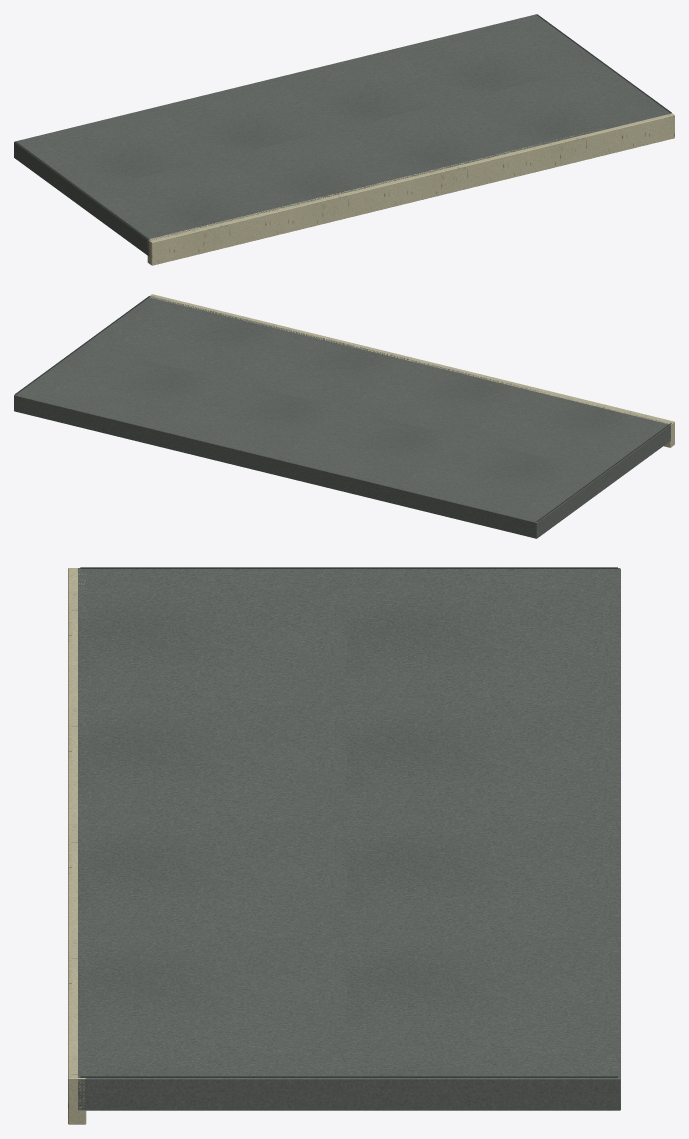
Rendered from gallery_walkway_4m.glb.
The picture shows the model from 3 angles, top to bottom: view 1: azimuth 30°, elevation 25°; view 2: azimuth 150°, elevation 25°; view 3: azimuth 270°, elevation 25°; orthographic projection. The views are drawn at different scales.
Parts seen in each view (by area): view 1: gallery_walkway_4m; view 2: gallery_walkway_4m; view 3: gallery_walkway_4m.
Boxes of the visible parts, x1,y1,x2,y2 form: gallery_walkway_4m: [14, 14, 674, 265]; gallery_walkway_4m: [14, 294, 674, 538]; gallery_walkway_4m: [68, 567, 620, 1124].
Size of the model in its own units: 4 by 0.172 by 1.83.
3 materials, 3 textured.
